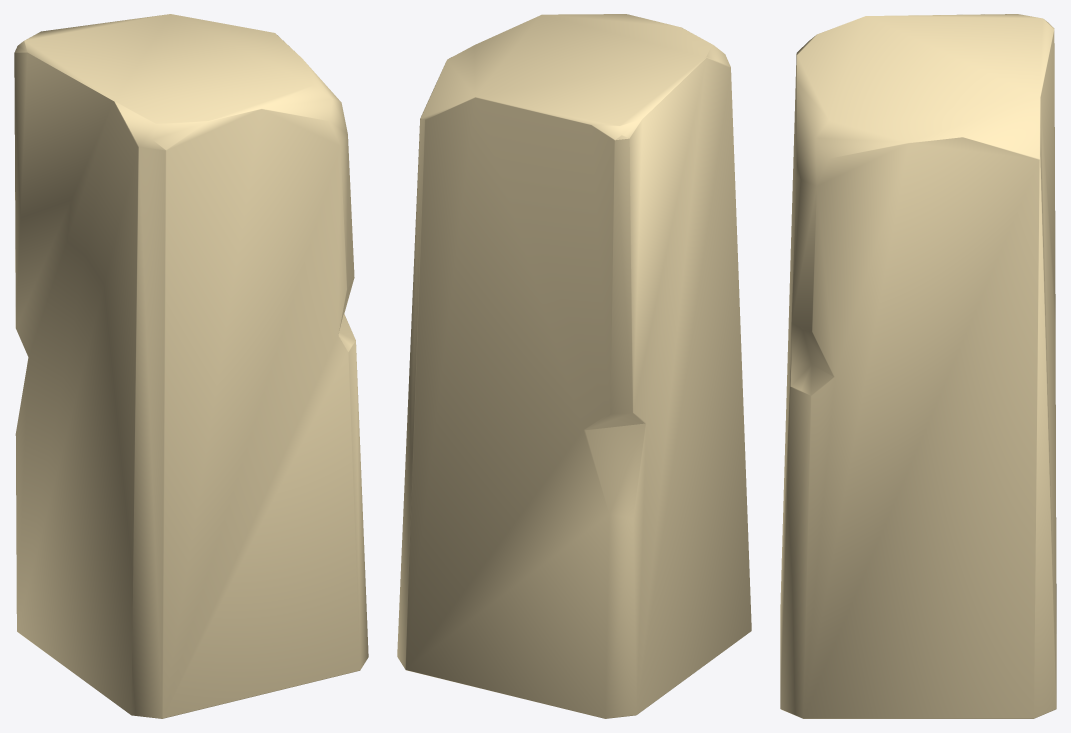
Rendered from Module_Masonry_Post_LOD01.fbx.
The picture shows the model from 3 angles, left to right: view 1: azimuth 30°, elevation 25°; view 2: azimuth 150°, elevation 25°; view 3: azimuth 270°, elevation 25°; orthographic projection.
Parts seen in each view (by area): view 1: Module_Masonry_Post_LOD01_Geometry; view 2: Module_Masonry_Post_LOD01_Geometry; view 3: Module_Masonry_Post_LOD01_Geometry.
Part boxes in pixels (x1=…): Module_Masonry_Post_LOD01_Geometry: x1=14, y1=14, x2=368, y2=718; Module_Masonry_Post_LOD01_Geometry: x1=397, y1=14, x2=751, y2=718; Module_Masonry_Post_LOD01_Geometry: x1=780, y1=14, x2=1056, y2=718.
Size of the model in its own units: 0.7787 by 1.84 by 0.7788.
